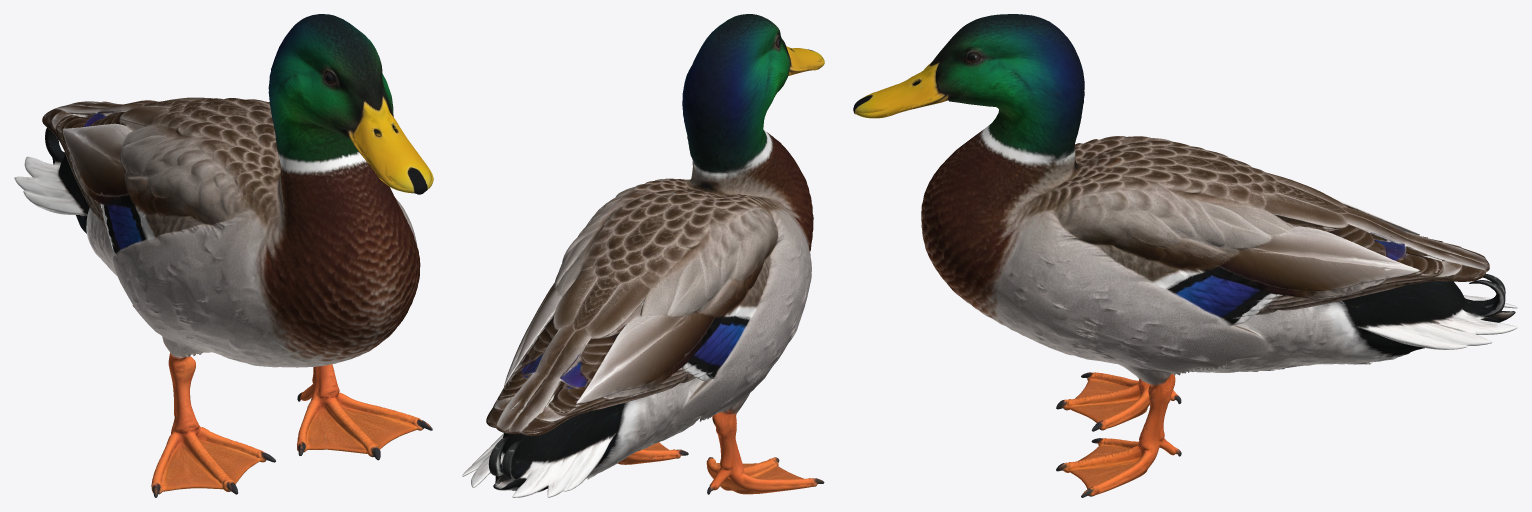
File: duck.glb
The picture shows the model from 3 angles, left to right: view 1: azimuth 30°, elevation 25°; view 2: azimuth 150°, elevation 25°; view 3: azimuth 270°, elevation 25°; orthographic projection. The views are drawn at different scales.
Size of the model in its own units: 0.0307 by 0.05 by 0.071.
Materials: 1 (1 with a texture image).
